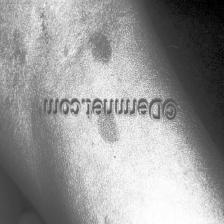Unclassified: (85, 28, 119, 70), (91, 114, 122, 144)
